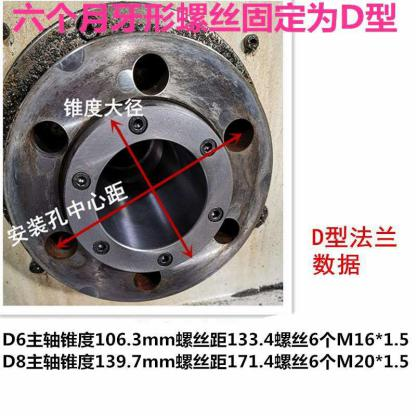FOD: (0, 0, 275, 306)
